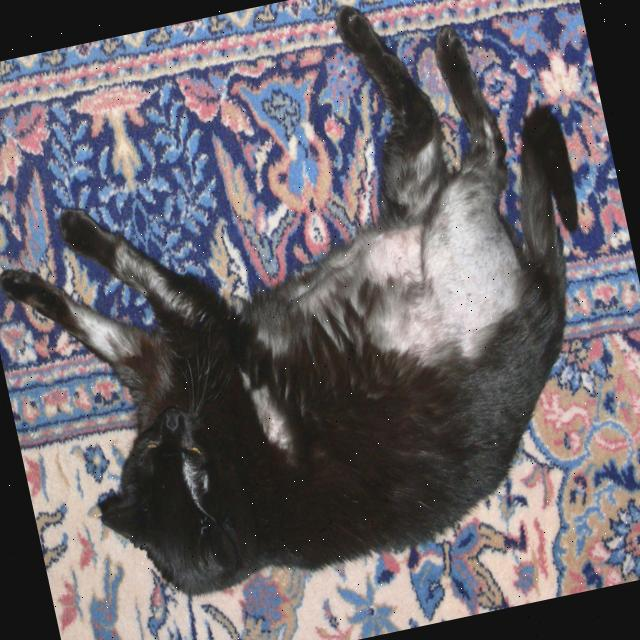cat-hairloss: (370, 207, 510, 336), (251, 389, 291, 450)
